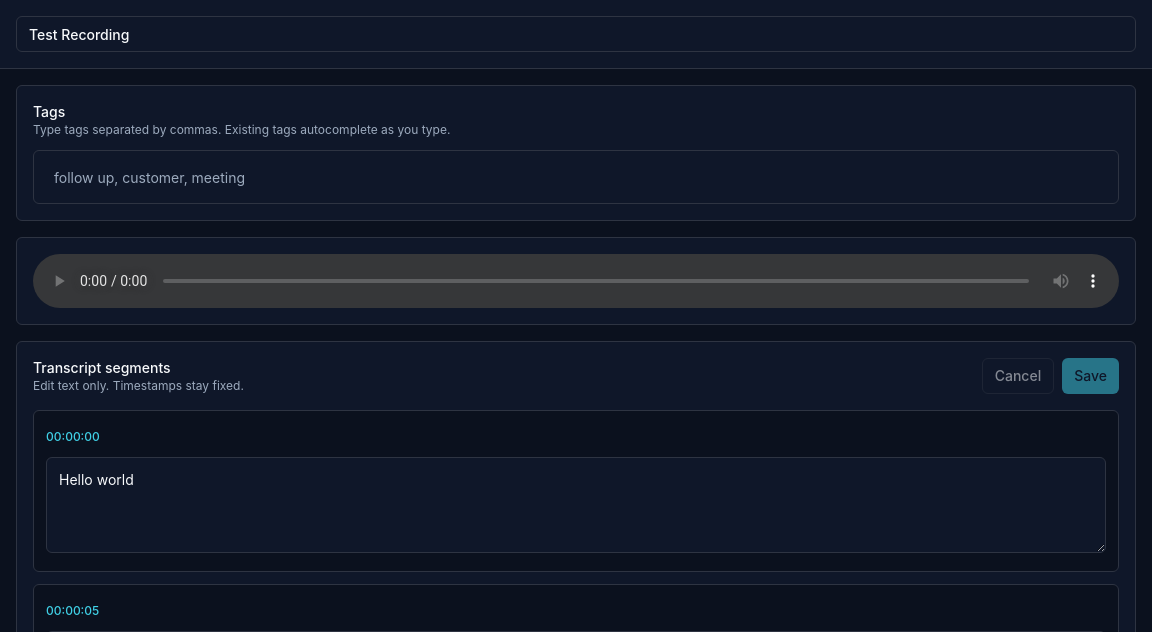
ItemDetail › restores the persisted transcript when cancel is pressed
Replace the text in the 1st text box showing "Hello world" with "Discard me" at (576, 505), box x1=46 y1=457 x2=1106 y2=553
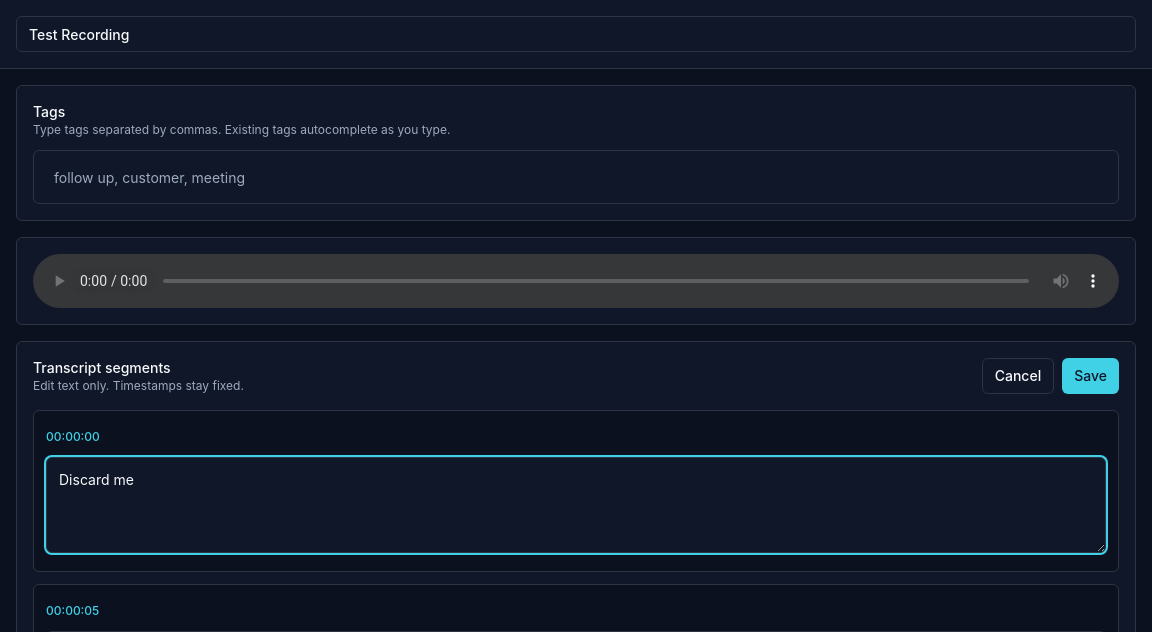
Click the button "Cancel" at (1018, 376), box x1=982 y1=358 x2=1054 y2=394
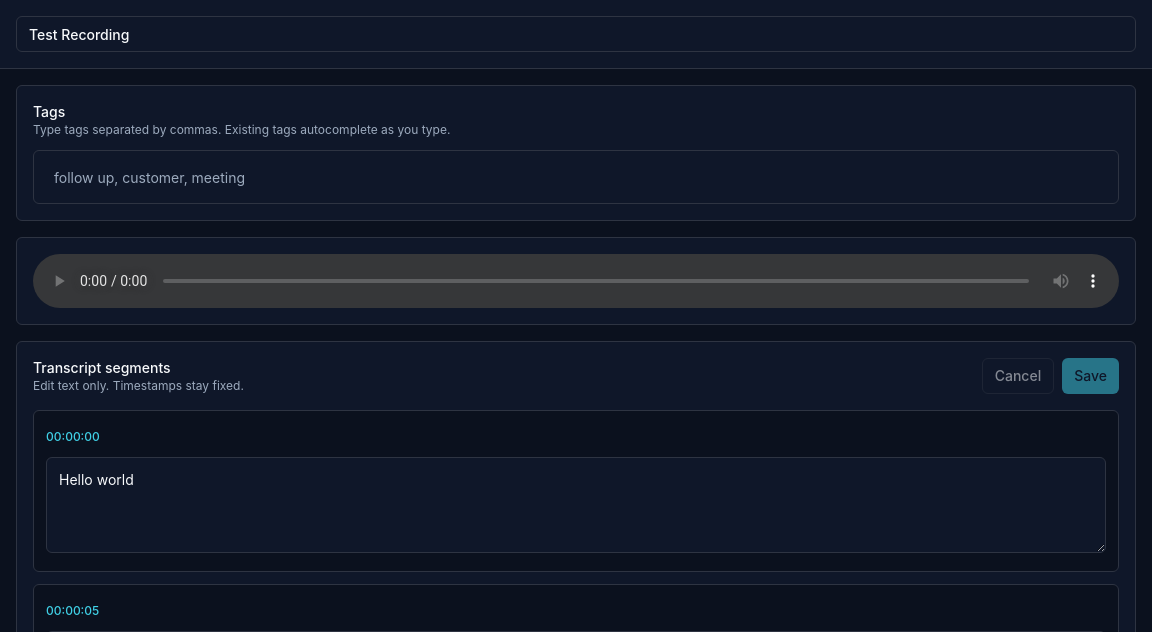
Expected: the 1st text box showing "Hello world" is shown, x1=46 y1=457 x2=1106 y2=553
